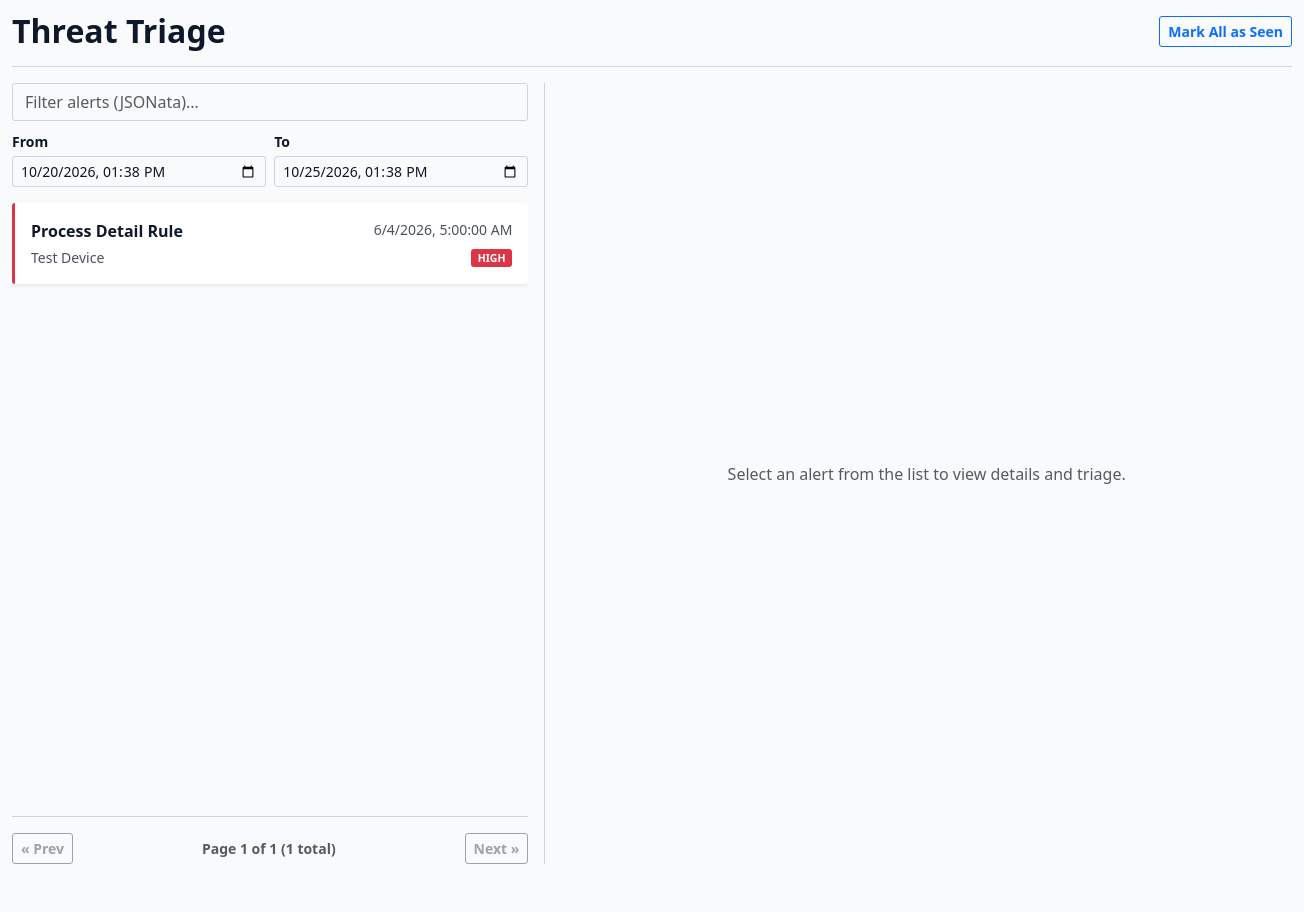
Test: Alerts Page › Rustinel New Alert Fields UI › renders process hashes, integrity level, and container context
Click the text "Process Detail Rule" at coordinates (107, 231), box [31, 219, 183, 243]
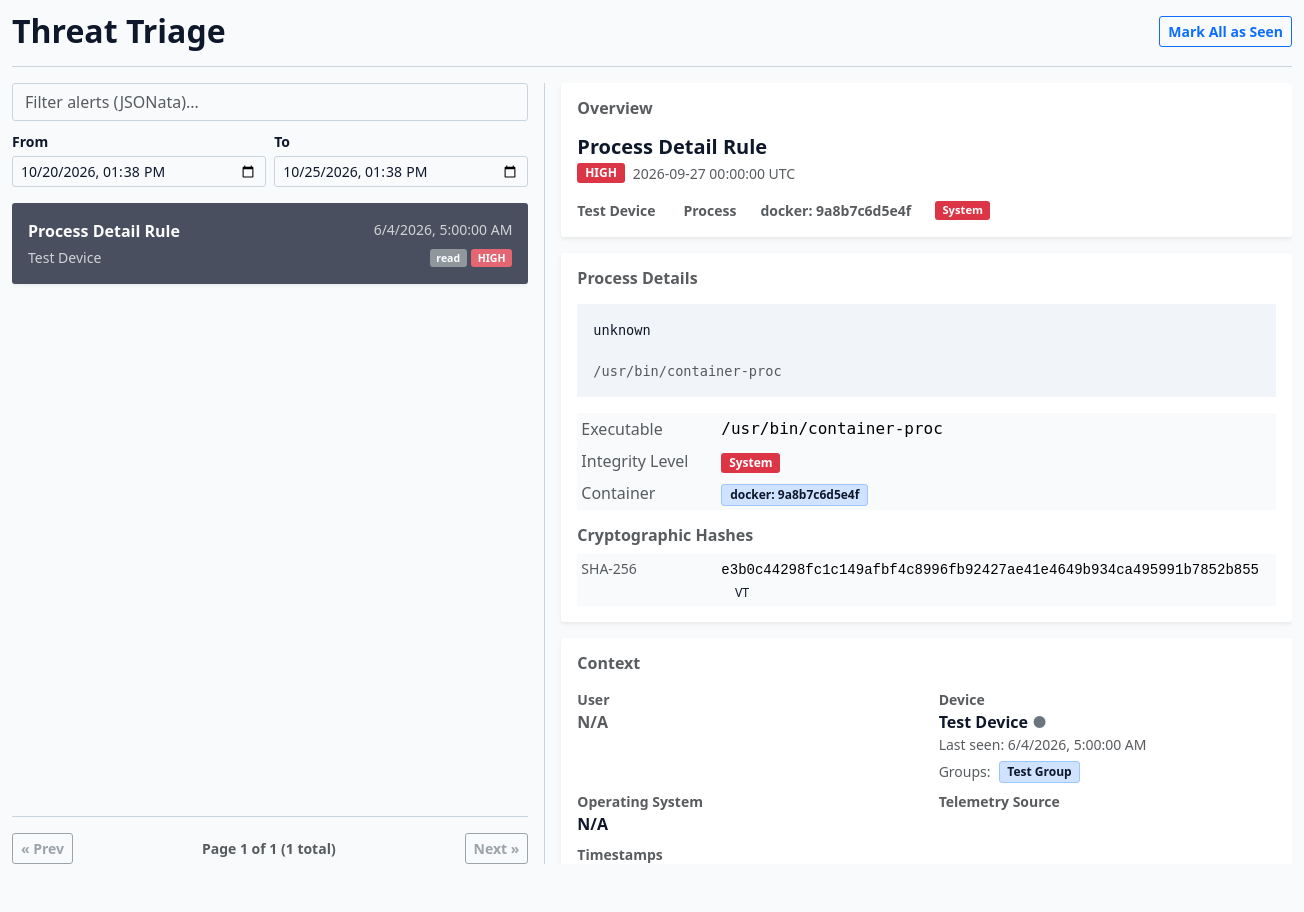
Now the text "e3b0c44298fc1c149afbf4c8996fb92427ae41e4649b934ca495991b7852b855" is shown, box [721, 562, 1259, 578]
Now the text "System" below "2026-09-27 00:00:00 UTC" is shown, box [942, 202, 983, 218]
Now the text "docker: 9a8b7c6d5e4f" below "2026-09-27 00:00:00 UTC" is shown, box [760, 201, 911, 220]
